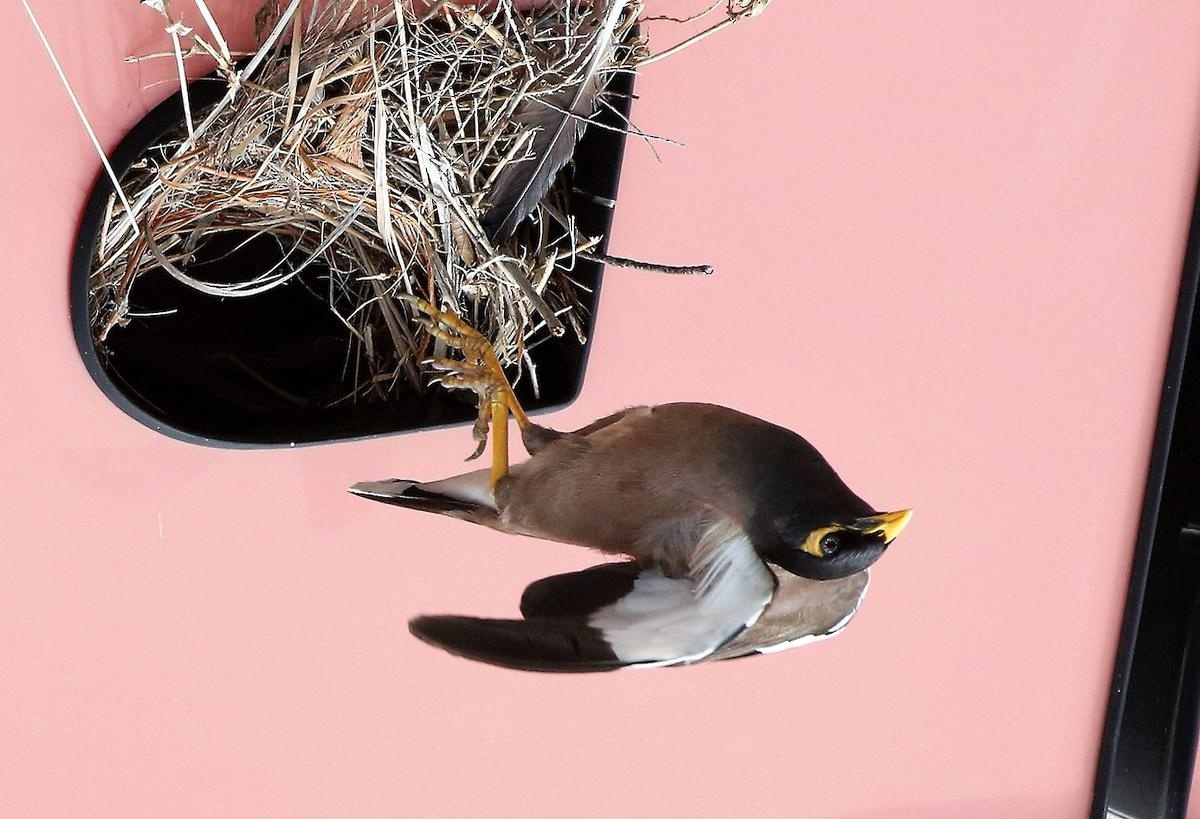myna: (371, 299, 939, 685)
